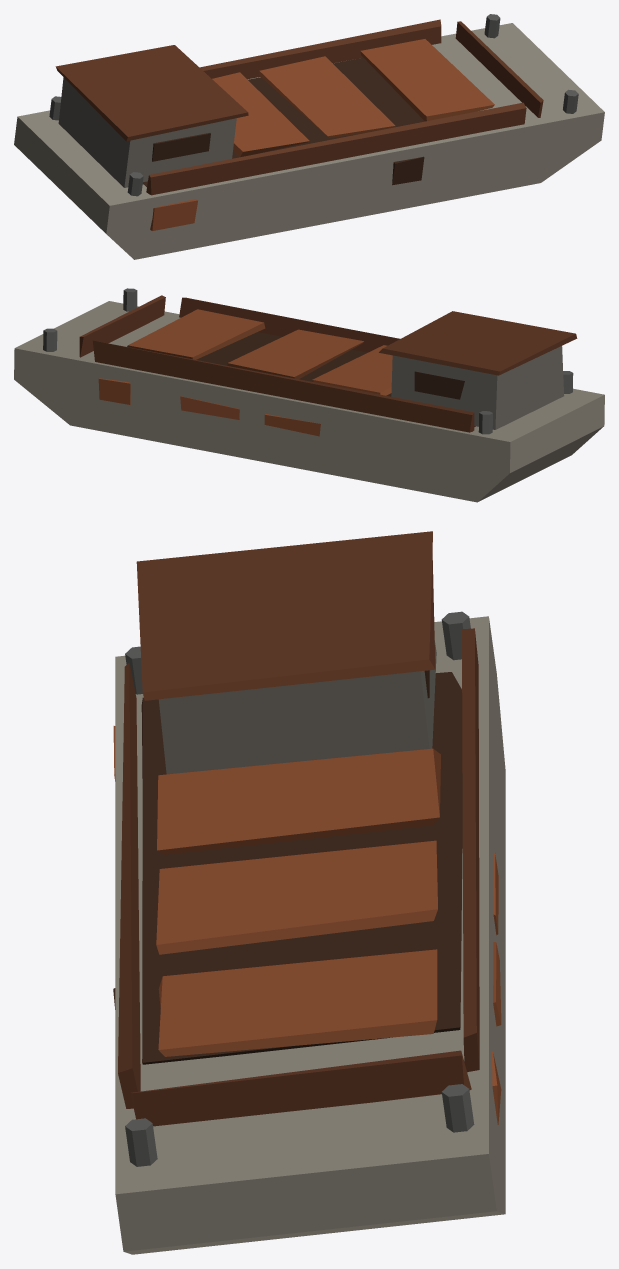
The model's file is boat_barge.glb.
The picture shows the model from 3 angles, top to bottom: view 1: azimuth 30°, elevation 25°; view 2: azimuth 150°, elevation 25°; view 3: azimuth 270°, elevation 25°; orthographic projection. The views are drawn at different scales.
Parts seen in each view (by area): view 1: boat_barge; view 2: boat_barge; view 3: boat_barge.
Part boxes in pixels (<box>): boat_barge: <box>14,14,604,259</box>; boat_barge: <box>14,288,604,502</box>; boat_barge: <box>113,531,505,1254</box>.
Size of the model in its own units: 14.05 by 4.36 by 4.8.
